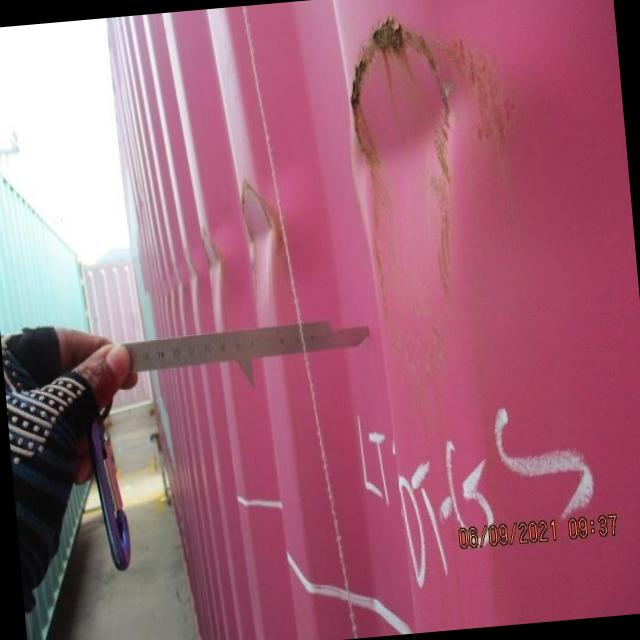Deframe_or_Dent: (141, 13, 553, 383)
